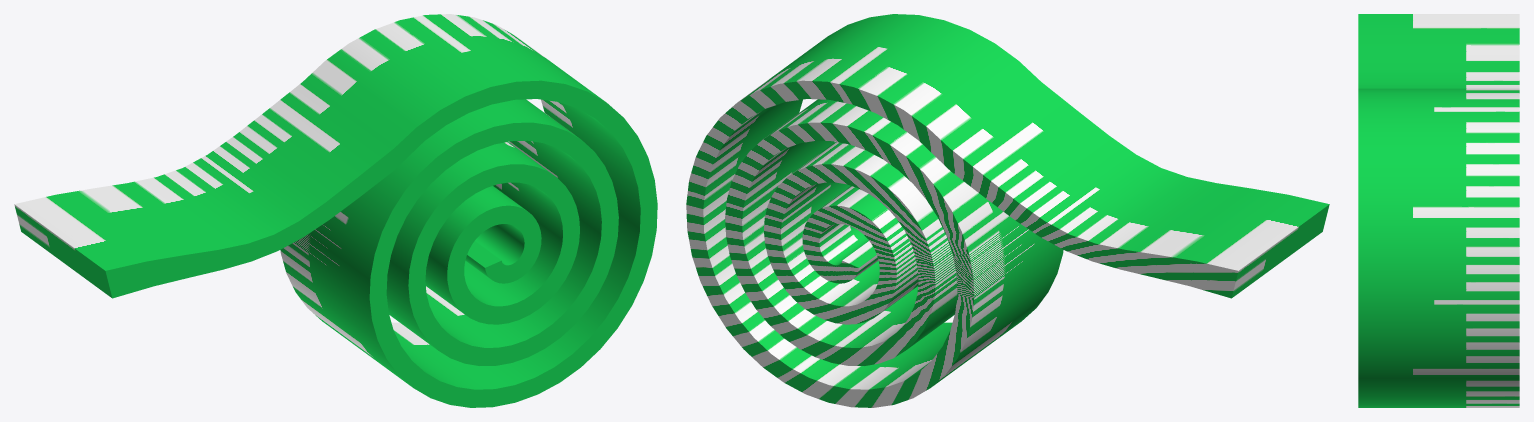
File: chi.FBX
3 views of the same model, side by side, from view 1: azimuth 30°, elevation 25°; view 2: azimuth 150°, elevation 25°; view 3: azimuth 270°, elevation 25° (orthographic). The views are drawn at different scales.
Parts seen in each view (by area): view 1: chi; view 2: chi; view 3: chi.
Part boxes in pixels (bbox=[...]): chi: bbox=[14, 14, 657, 407]; chi: bbox=[686, 14, 1329, 407]; chi: bbox=[1358, 14, 1519, 407].
Bounding box in the file's own units: 10.21 × 5.68 × 2.92.
